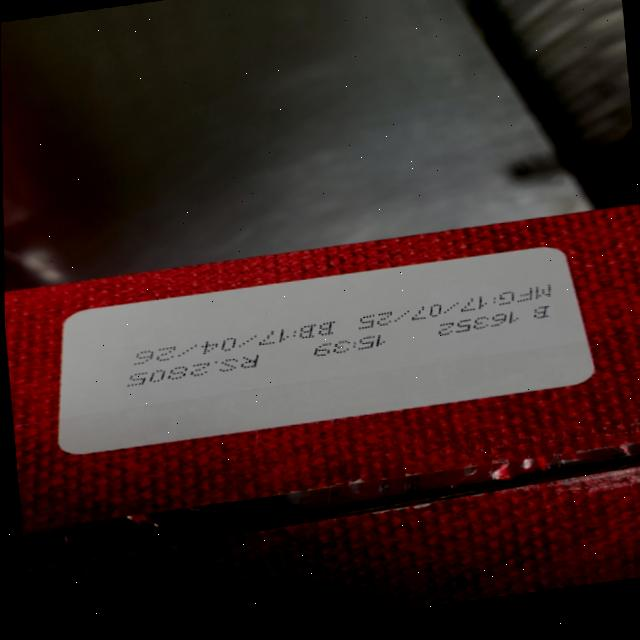BB: (134, 321, 336, 364)
Batch: (430, 305, 547, 336)
MFG: (359, 284, 553, 328)
RS: (124, 353, 262, 387)
TimeStamp: (310, 333, 390, 357)
